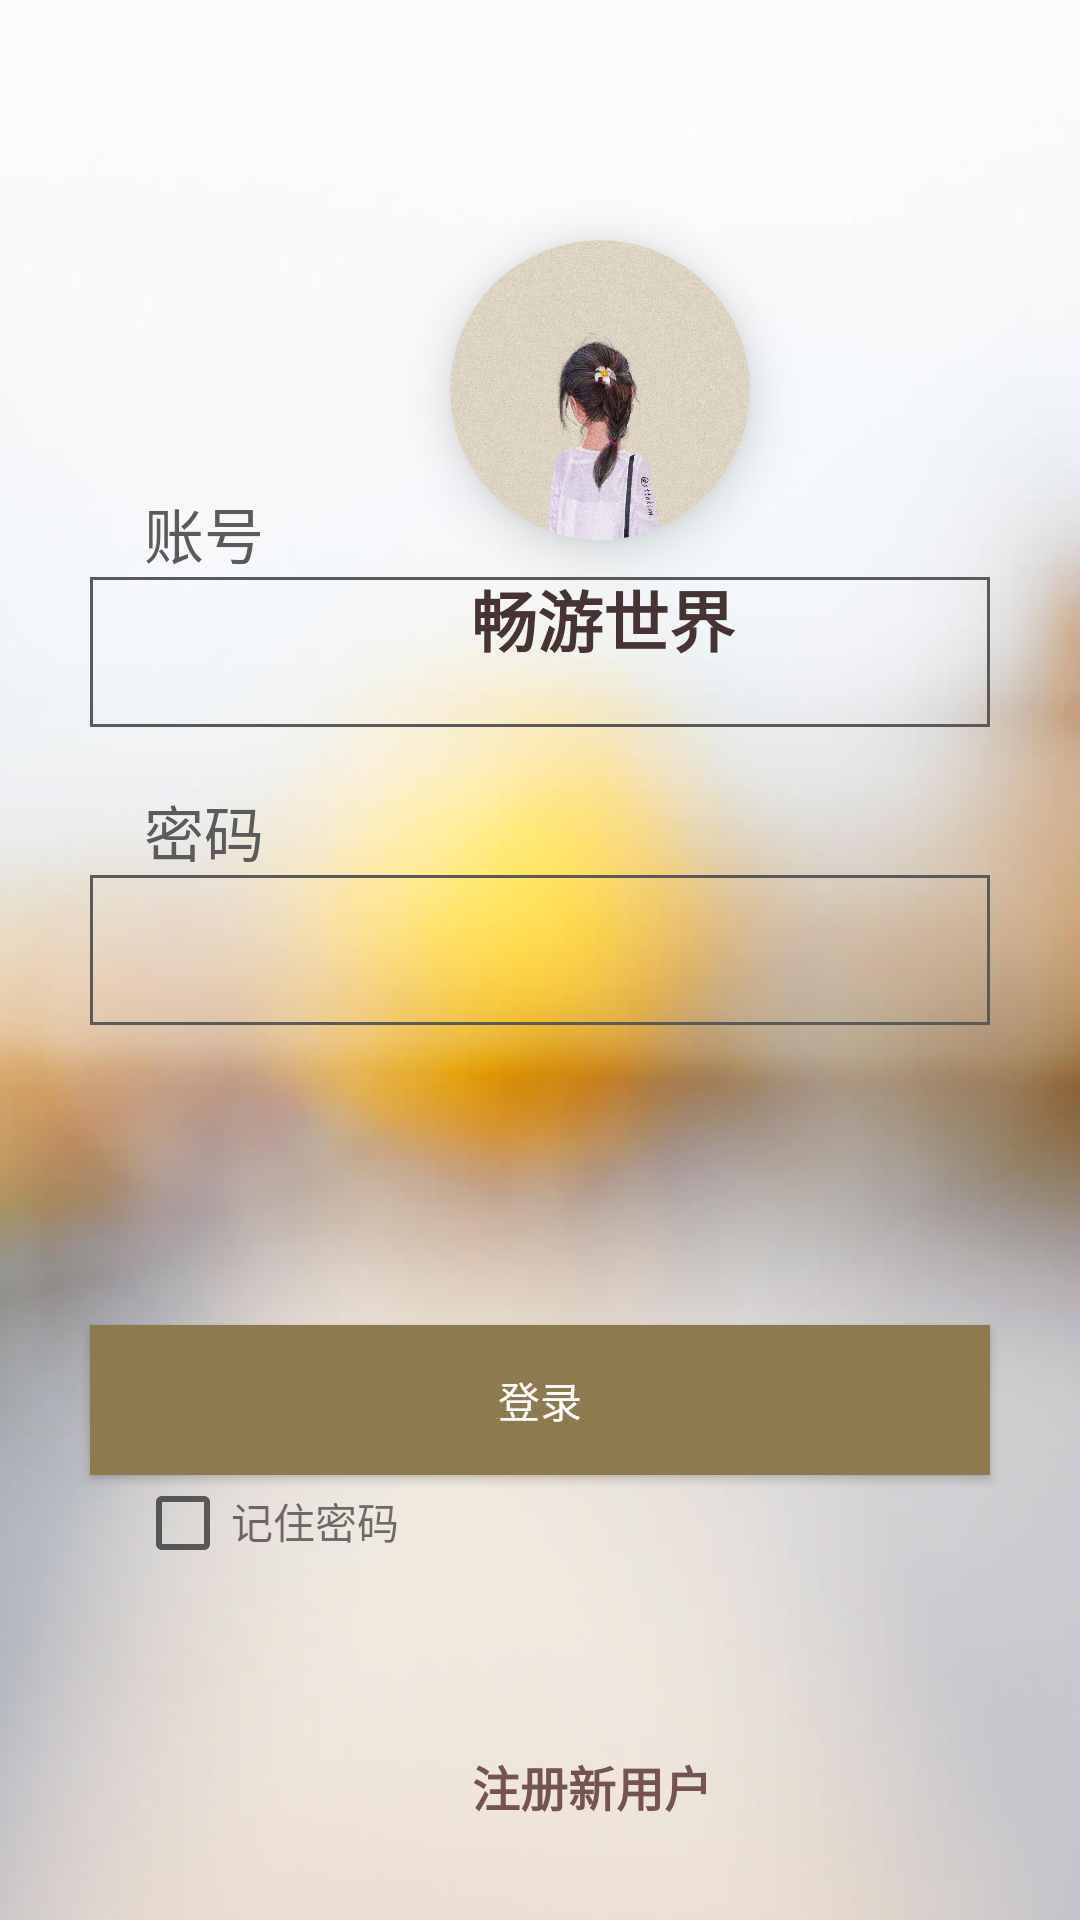

Named icons in this screenshot (1080*1920) and their bounding boxes, (x1, y1, x2, y2):
head: (450, 240, 750, 540)
